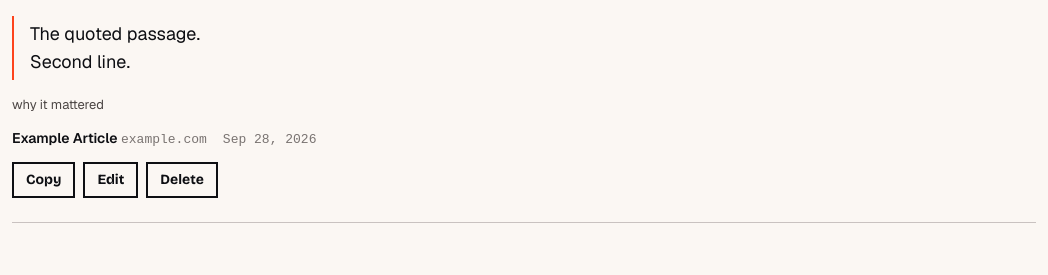
Test: QuoteCard › says so when the clipboard refuses
What coordinates should you click on to do the following:
click the button "Copy"
I would click on:
 (44, 180)
Its box is x1=12 y1=162 x2=75 y2=198.
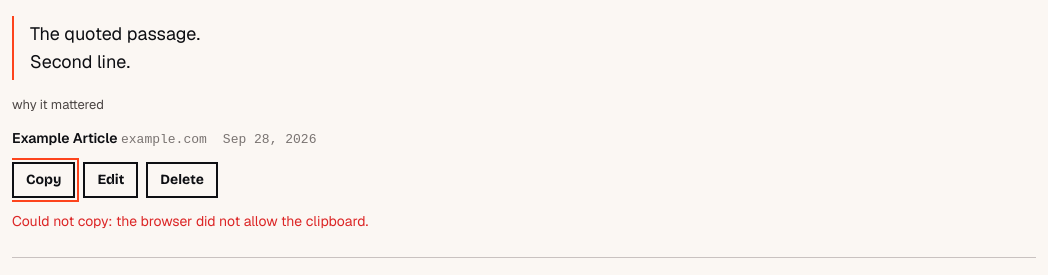
Expected: the message shows "Could not copy", x1=12 y1=212 x2=368 y2=230
